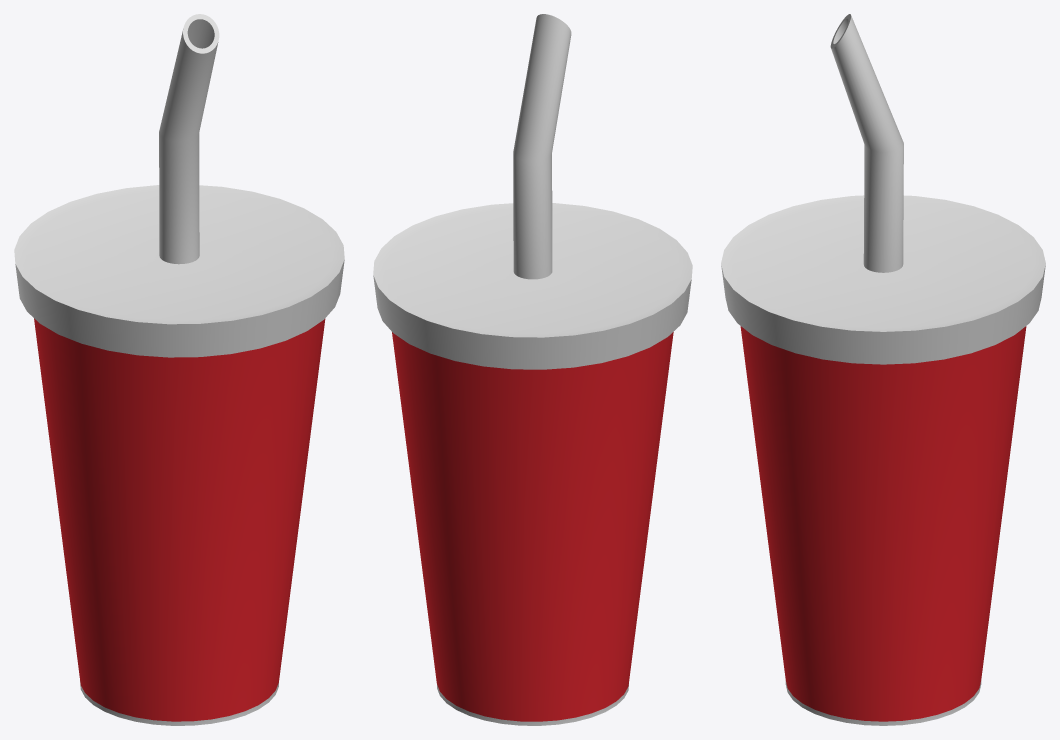
Rendered from Cup.fbx.
The picture shows the model from 3 angles, left to right: view 1: azimuth 30°, elevation 25°; view 2: azimuth 150°, elevation 25°; view 3: azimuth 270°, elevation 25°; orthographic projection. The views are drawn at different scales.
Parts seen in each view (by area): view 1: Cylinder; view 2: Cylinder; view 3: Cylinder.
Boxes of the visible parts, x1,y1,x2,y2 form: Cylinder: [14, 14, 344, 725]; Cylinder: [373, 14, 692, 725]; Cylinder: [721, 14, 1045, 725].
Bounding box in the file's own units: 383 × 870 × 383.
